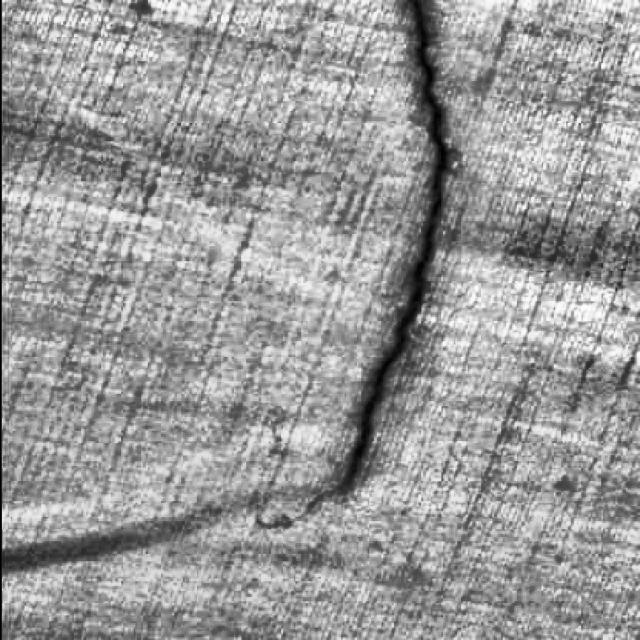objects: (241, 0, 468, 534)
